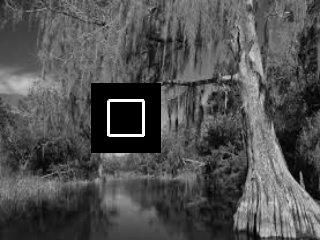square: (91, 83, 161, 153)
